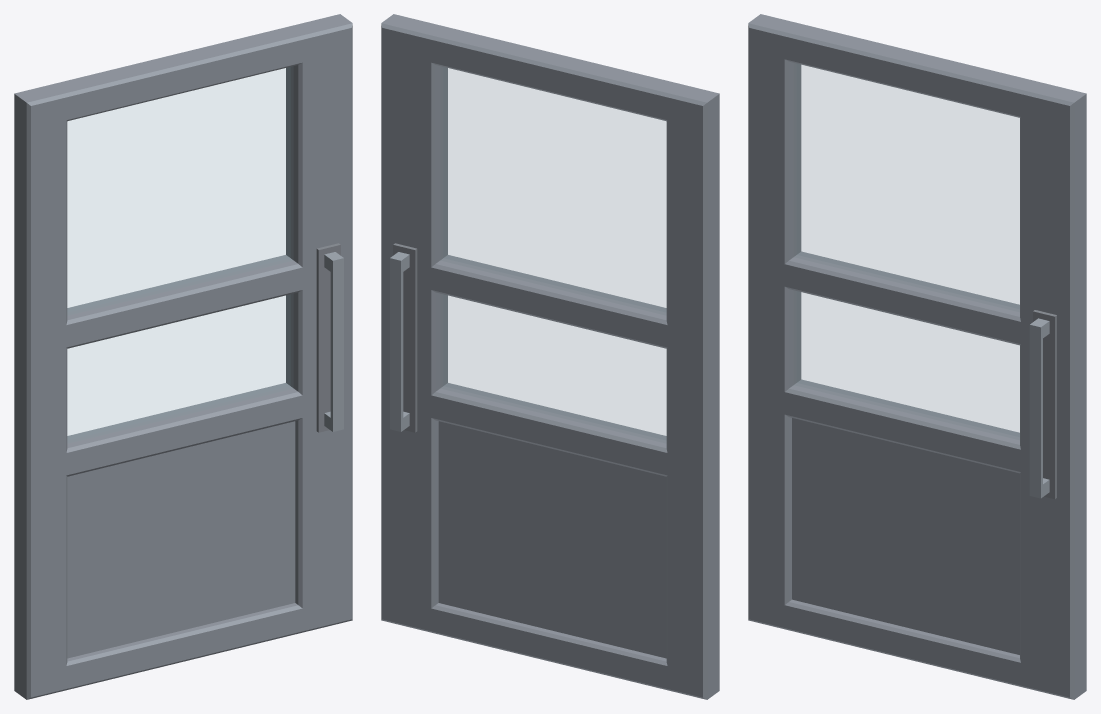
File: SM_Buildings_Hospital_01_Door_2.fbx
3 renders of one model, left to right at view 1: azimuth 30°, elevation 25°; view 2: azimuth 150°, elevation 25°; view 3: azimuth 330°, elevation 25°, orthographic.
Parts seen in each view (by area): view 1: SM_Buildings_Hospital_01_Door_2; view 2: SM_Buildings_Hospital_01_Door_2; view 3: SM_Buildings_Hospital_01_Door_2.
Boxes of the visible parts, bbox=[...] form: SM_Buildings_Hospital_01_Door_2: bbox=[14, 14, 352, 699]; SM_Buildings_Hospital_01_Door_2: bbox=[381, 14, 719, 699]; SM_Buildings_Hospital_01_Door_2: bbox=[748, 14, 1086, 699].
Bounding box in the file's own units: 1.2 × 2.1 × 0.2366.
